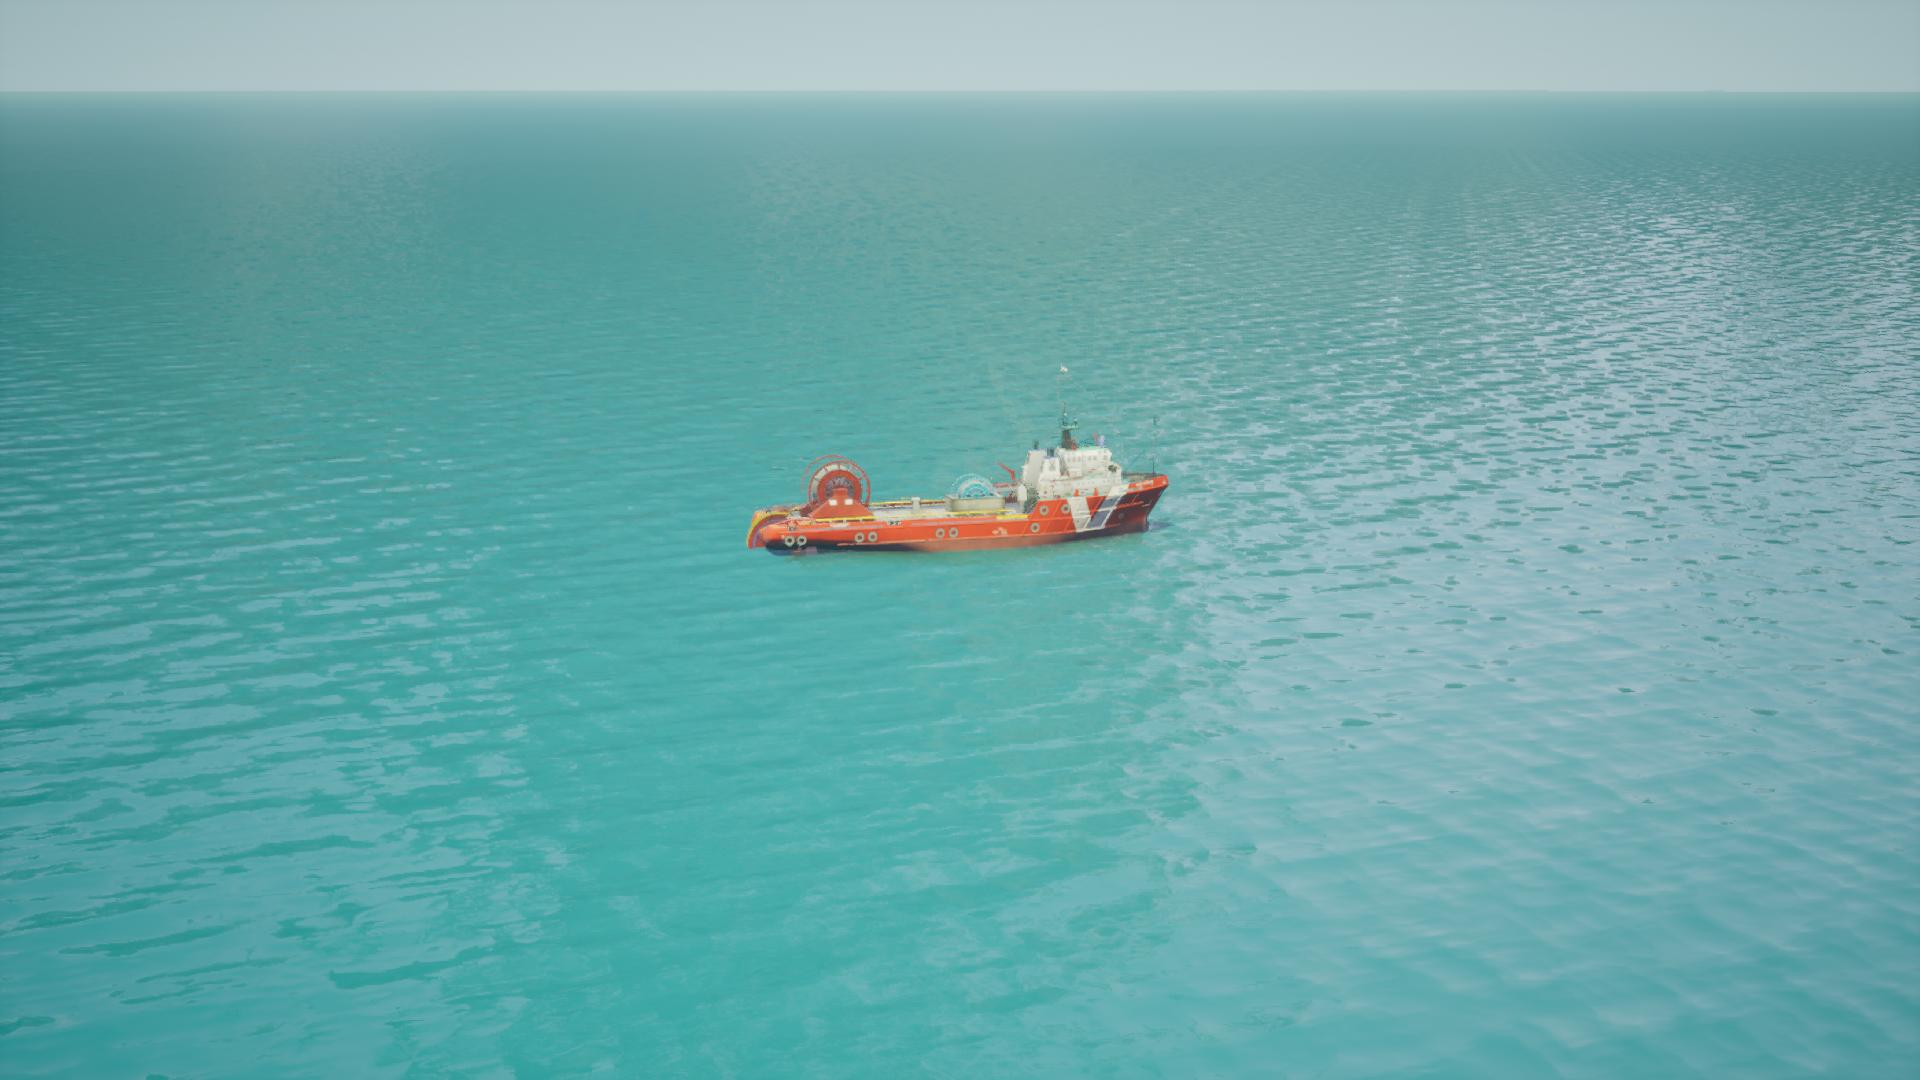Tug Boat: (745, 436, 1191, 562)
